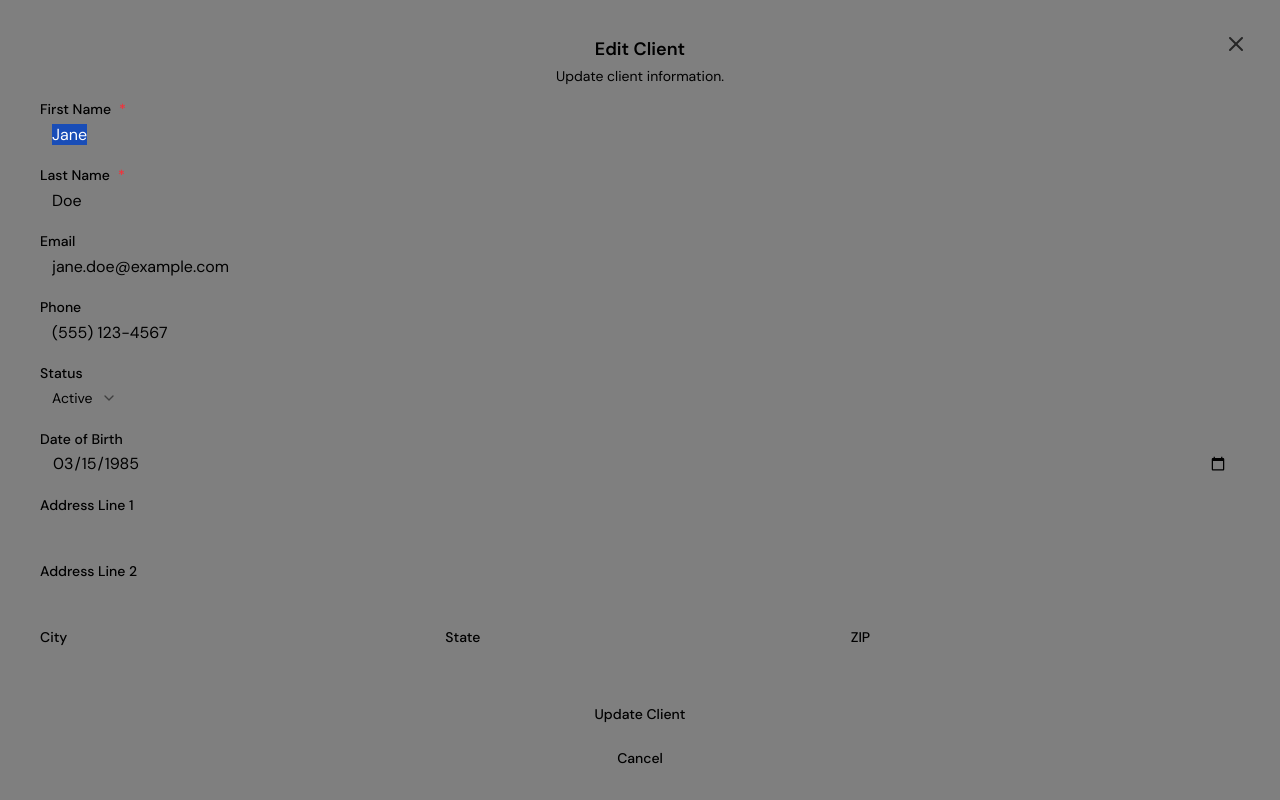
Test case: PatientForm › Loading States › shows 'Updating...' text in edit mode while submitting
Click the button "Update Client": coordinates (640, 714) [40, 696, 1240, 732]
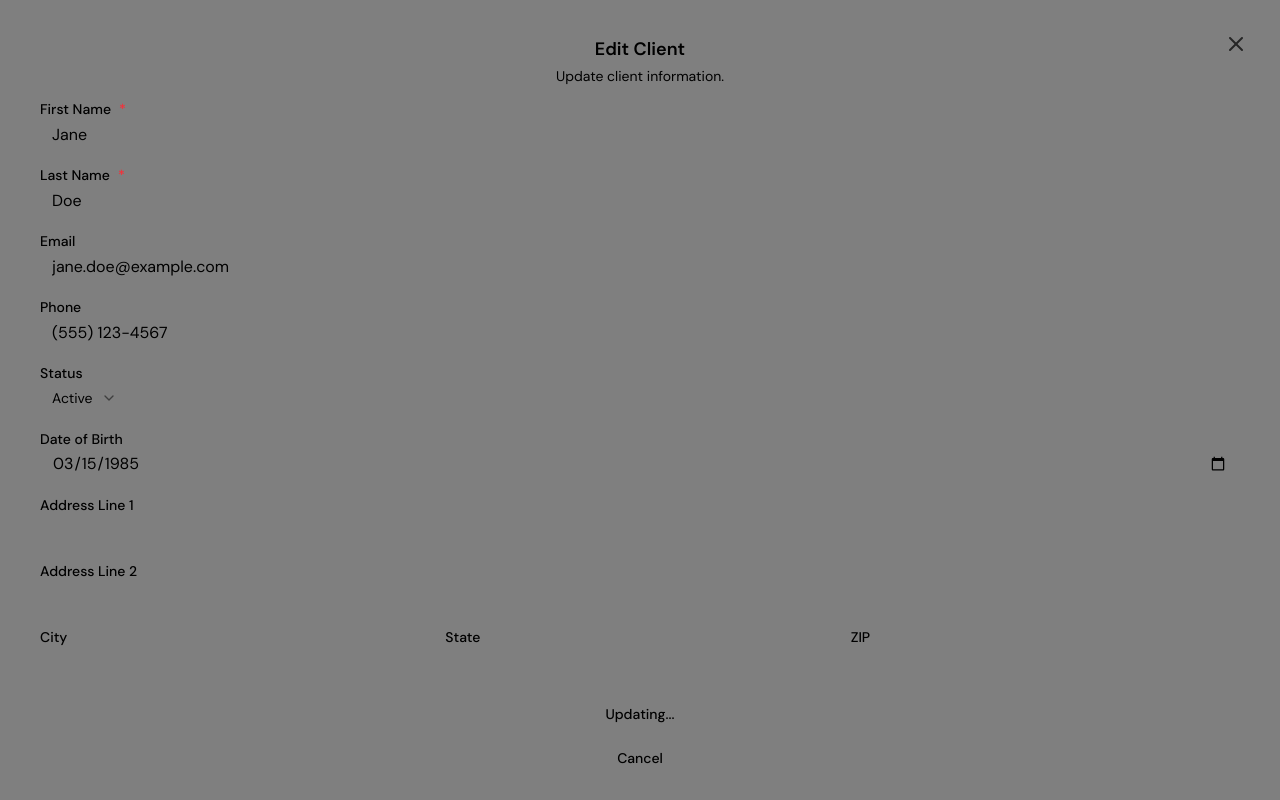
expect the button "Updating..." is disabled: met, box [40, 696, 1240, 732]
